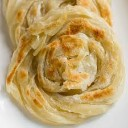parota: (10, 7, 123, 121)
